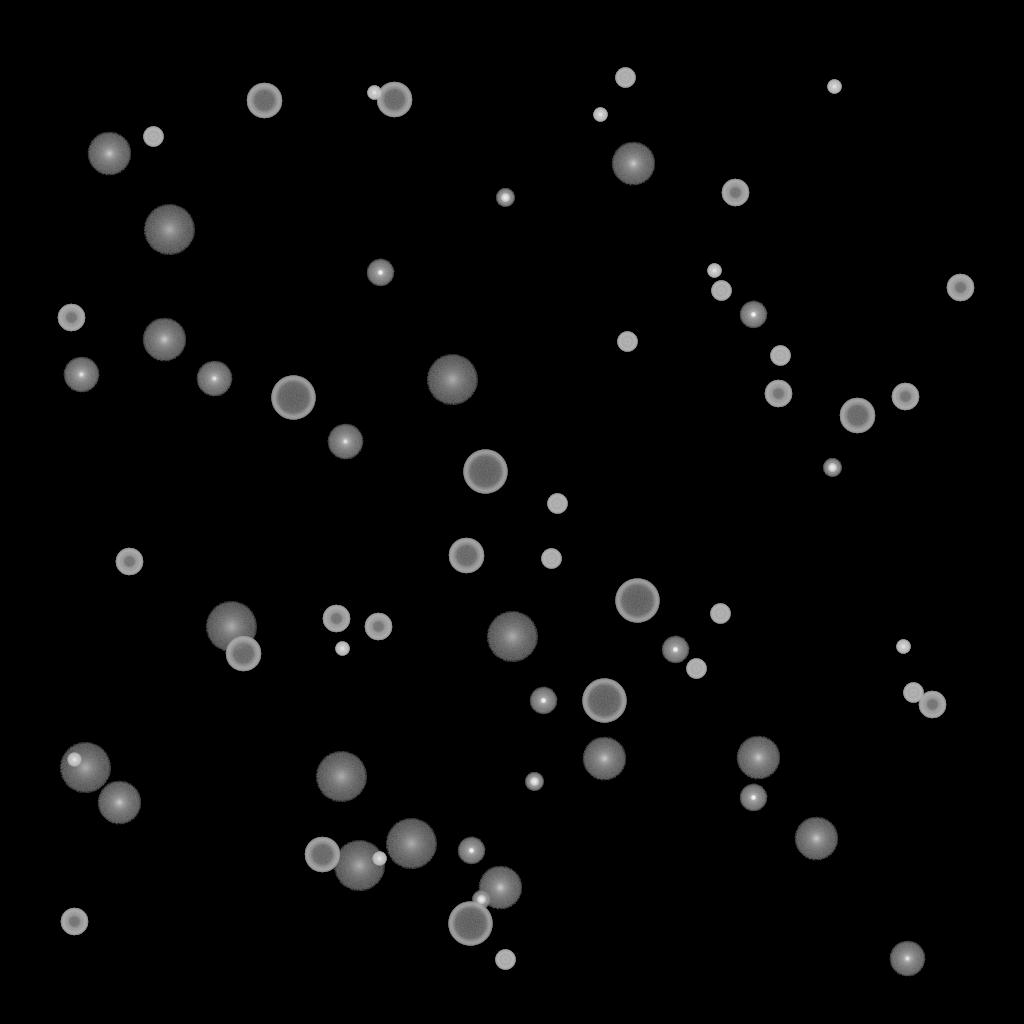depth:-10: (739, 301, 767, 329), (457, 837, 485, 865), (661, 636, 689, 664), (529, 687, 557, 715), (739, 784, 767, 812), (366, 259, 394, 287)
depth:-20: (823, 459, 841, 477), (496, 189, 514, 207), (525, 773, 543, 791), (472, 891, 490, 909)
depth:-30: (707, 264, 721, 278), (593, 108, 607, 122), (67, 753, 81, 767), (335, 642, 349, 656), (827, 80, 841, 94), (896, 640, 910, 654), (372, 852, 386, 866), (367, 86, 381, 100)
depth:-40: (495, 950, 515, 970), (615, 68, 635, 88), (710, 604, 730, 624), (711, 281, 731, 301), (541, 549, 561, 569), (770, 346, 790, 366), (686, 659, 706, 679), (903, 683, 923, 703), (143, 127, 163, 147), (547, 494, 567, 514), (617, 332, 637, 352)
depth:-50: (115, 548, 143, 576), (721, 179, 749, 207), (364, 613, 392, 641), (891, 383, 919, 411), (946, 274, 974, 302), (322, 605, 350, 633), (918, 691, 946, 719), (57, 304, 85, 332), (60, 908, 88, 936), (764, 380, 792, 408)
depth:-60: (448, 538, 484, 574), (839, 398, 875, 434), (225, 636, 261, 672), (246, 83, 282, 119), (376, 82, 412, 118), (304, 837, 340, 873)
depth:-70: (271, 376, 315, 420), (448, 902, 492, 946), (463, 450, 507, 494), (582, 679, 626, 723), (615, 579, 659, 623)
depth:0: (327, 424, 363, 460), (196, 361, 232, 397), (889, 941, 925, 977), (63, 357, 99, 393)
depth:10: (142, 318, 186, 362), (478, 866, 522, 910), (794, 817, 838, 861), (736, 736, 780, 780), (582, 737, 626, 781), (87, 132, 131, 176), (97, 781, 141, 825), (611, 142, 655, 186)
depth:20: (385, 819, 437, 869), (486, 612, 538, 662), (59, 743, 111, 793), (143, 205, 195, 255), (315, 752, 367, 802), (333, 841, 385, 891), (205, 602, 257, 652), (426, 355, 478, 405)
